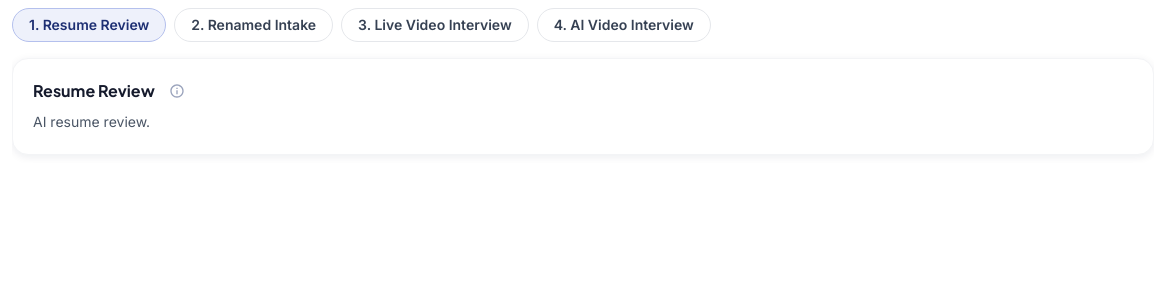
ViewInterviewRounds › lists the questions in the round's saved order
Click the button "3. Live Video Interview": (435, 25) x1=341 y1=8 x2=529 y2=42
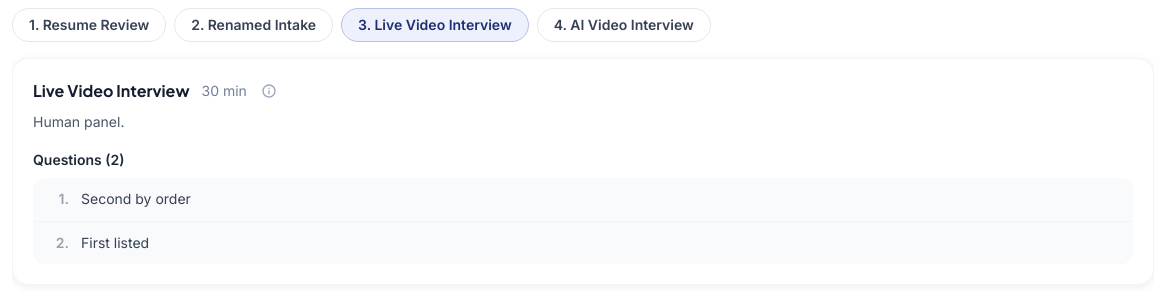
Result: the list item "1. Second by order" is shown at x1=33 y1=178 x2=1133 y2=222
Result: the list item "2. First listed" is shown at x1=56 y1=234 x2=149 y2=250
